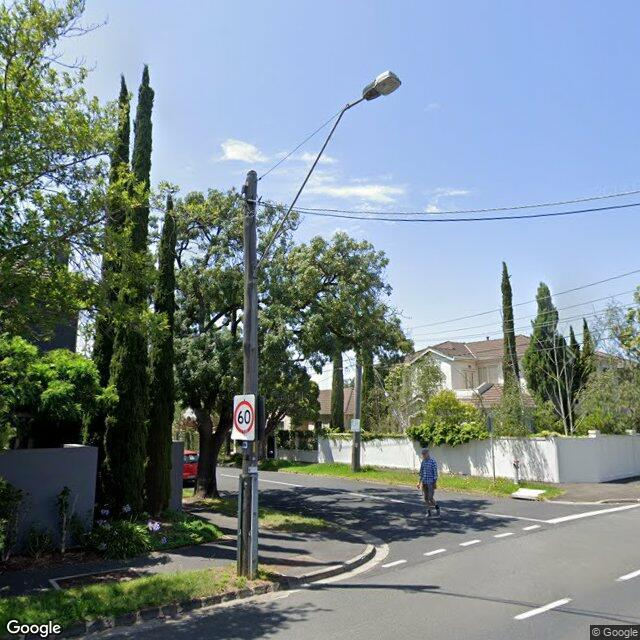streetlight: (253, 70, 402, 279)
timber-pole: (237, 170, 259, 580), (351, 354, 363, 472)
